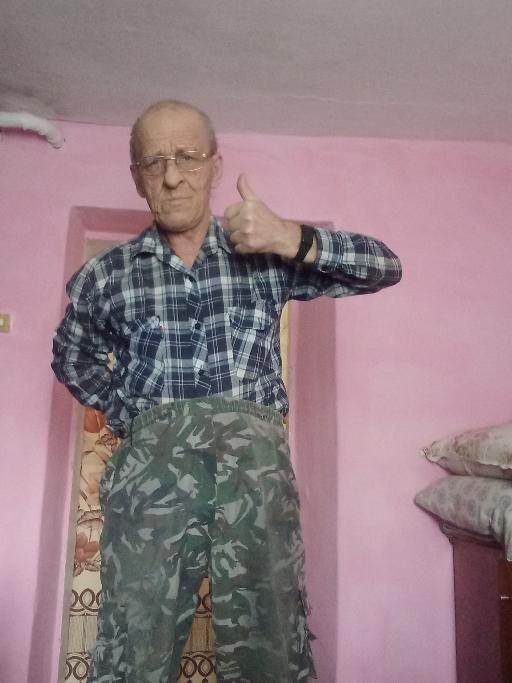like: (220, 168, 284, 259)
